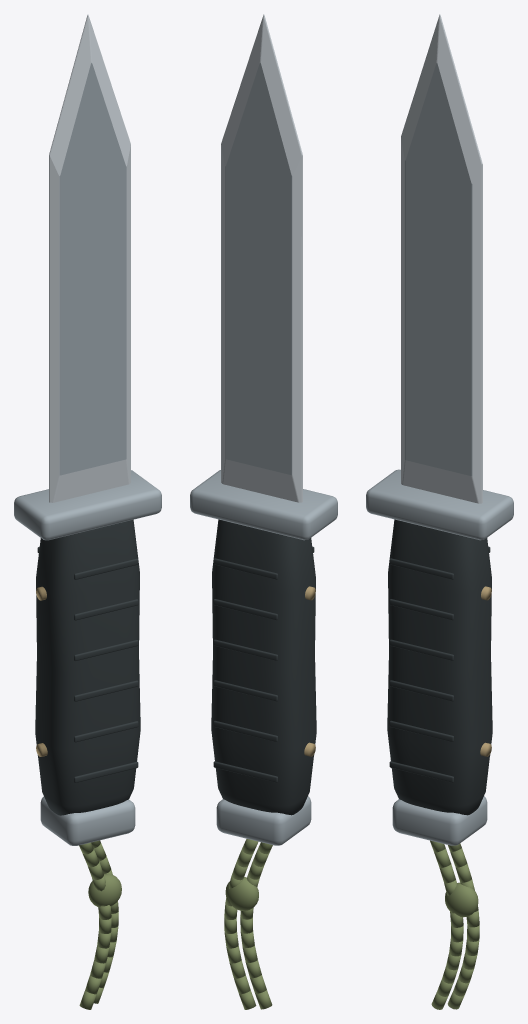
Rendered from knife_04.glb.
3 views of the same model, side by side, from view 1: azimuth 30°, elevation 25°; view 2: azimuth 150°, elevation 25°; view 3: azimuth 330°, elevation 25° (orthographic).
Visible parts, largest first — view 1: Blade, Contoured full-tang grip, Full tang hand guard, Solid tang pommel, Lanyard knot, Inset grip traction.006, Inset grip traction.010, Inset grip traction, Inset grip traction.002, Inset grip traction.008, Inset grip traction.004; view 2: Blade, Contoured full-tang grip, Full tang hand guard, Solid tang pommel, Lanyard knot, Inset grip traction.007, Inset grip traction.011, Inset grip traction.001, Inset grip traction.005, Inset grip traction.009, Inset grip traction.003; view 3: Blade, Contoured full-tang grip, Full tang hand guard, Solid tang pommel, Lanyard knot, Inset grip traction.006, Inset grip traction.010, Inset grip traction, Inset grip traction.002, Inset grip traction.008, Inset grip traction.004.
Boxes of the visible parts, x1,y1,x2,y2 form: Blade: (49,14,130,502); Contoured full-tang grip: (35,519,140,815); Full tang hand guard: (14,470,161,540); Solid tang pommel: (40,796,135,845); Lanyard knot: (88,874,121,907); Inset grip traction.006: (74,639,138,661); Inset grip traction.010: (74,558,138,579); Inset grip traction: (74,761,138,782); Inset grip traction.002: (74,721,138,742); Inset grip traction.008: (74,599,138,620); Inset grip traction.004: (74,680,138,701); Blade: (221,14,302,502); Contoured full-tang grip: (211,519,316,815); Full tang hand guard: (190,470,337,540); Solid tang pommel: (216,796,311,845); Lanyard knot: (225,877,258,910); Inset grip traction.007: (213,639,277,660); Inset grip traction.011: (213,558,277,579); Inset grip traction.001: (213,761,277,782); Inset grip traction.005: (213,680,277,701); Inset grip traction.009: (213,599,277,620); Inset grip traction.003: (213,720,277,741); Blade: (401,14,482,503); Contoured full-tang grip: (387,519,492,815); Full tang hand guard: (366,469,513,540); Solid tang pommel: (392,796,487,845); Lanyard knot: (445,882,478,917); Inset grip traction.006: (389,639,453,660); Inset grip traction.010: (389,558,453,579); Inset grip traction: (389,761,453,782); Inset grip traction.002: (389,720,453,741); Inset grip traction.008: (389,599,453,620); Inset grip traction.004: (389,680,453,701).
Size of the model in its own units: 0.0434 by 0.3429 by 0.0236.
